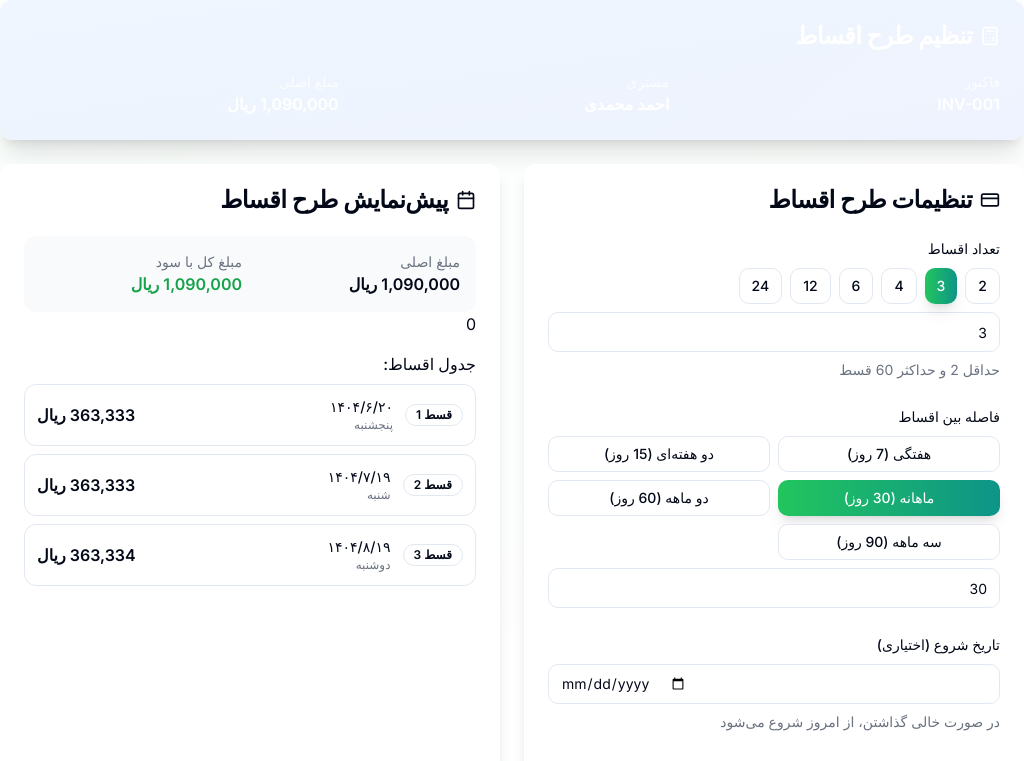
Test case: InstallmentPlanSetup › disables submit button when no preview data
Note: Set invalid installment count
Replace the text in the number field with placeholder "تعداد اقساط (2-60)" below "تعداد اقساط" with "1" at (774, 332), box [548,312,1000,352]
(page scrolled)
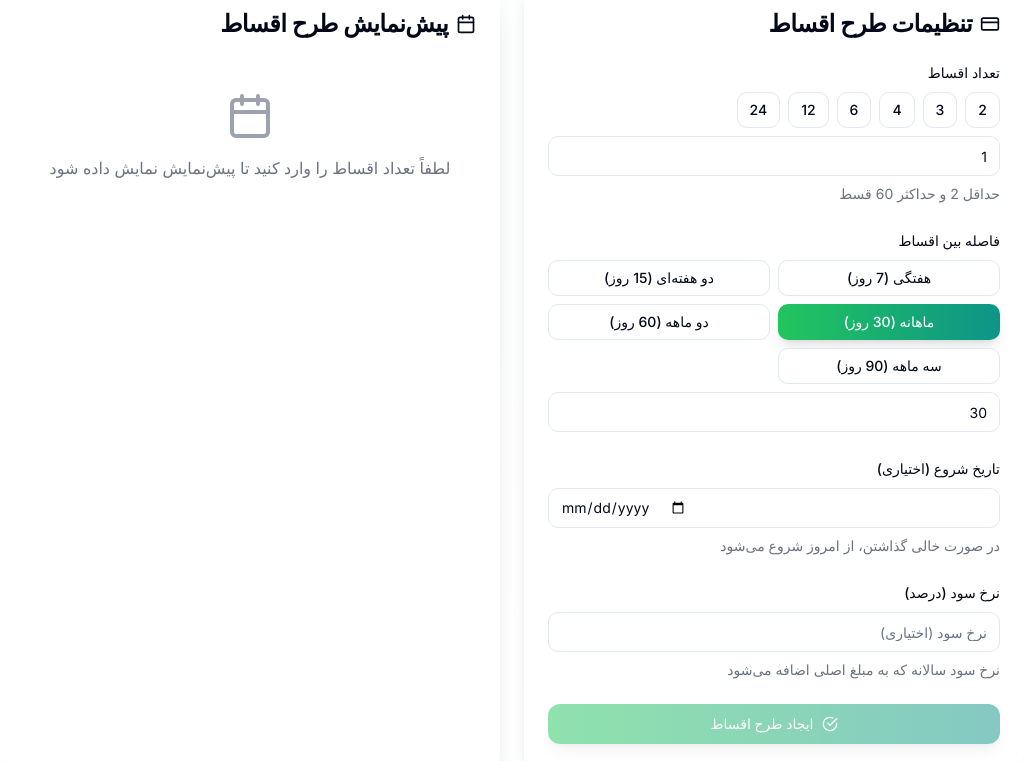
Now the button "ایجاد طرح اقساط" is disabled, box [548,704,1000,744]
